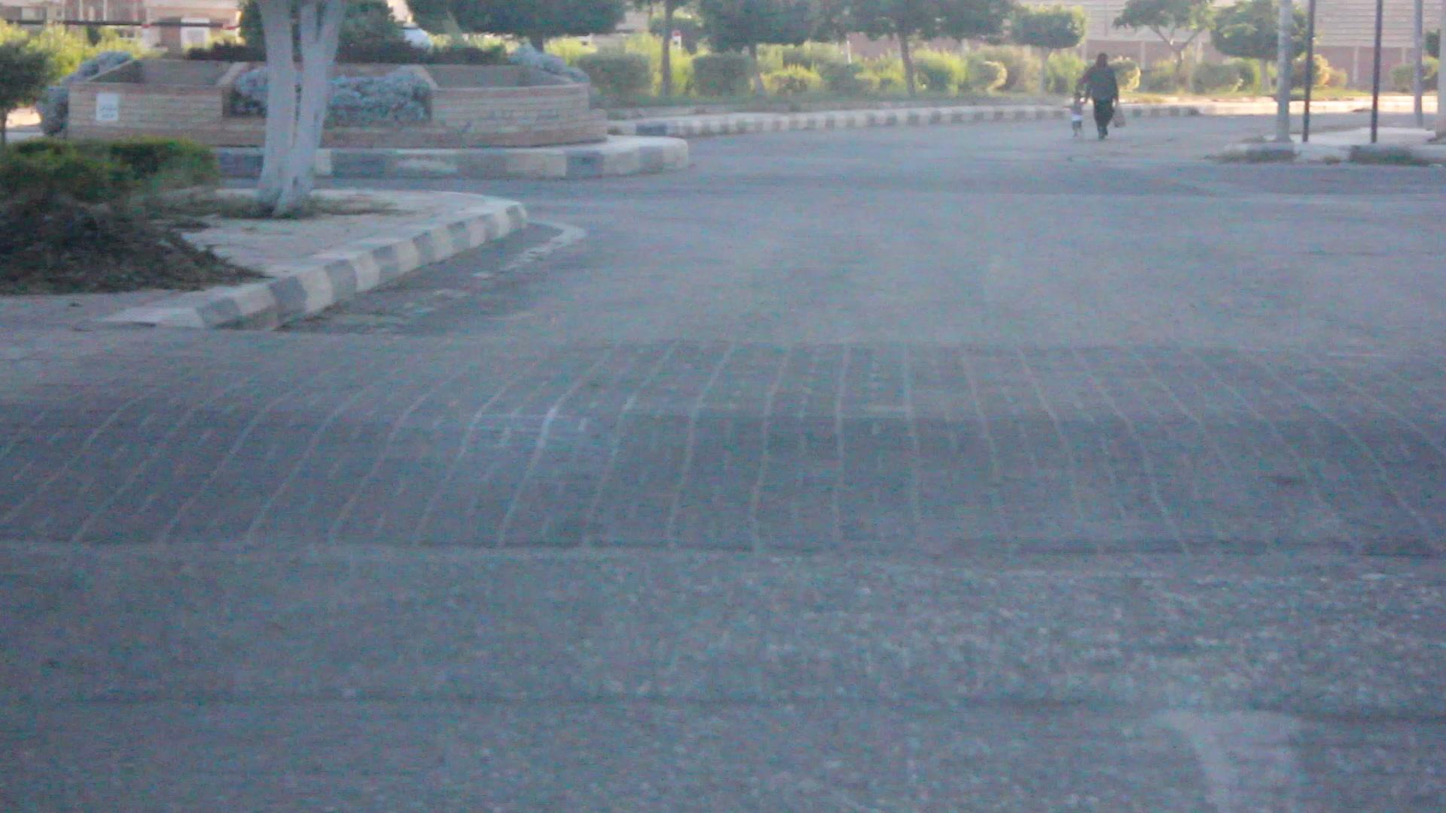Bump: (77, 348, 1446, 676)
